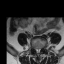CCS_normal: (37, 46, 39, 55)
LFS_severe_stenosis: (40, 45, 42, 51)
LLS_normal: (39, 46, 40, 54)
RFS_stenosis: (33, 45, 35, 51)
RLS_normal: (35, 46, 37, 54)
